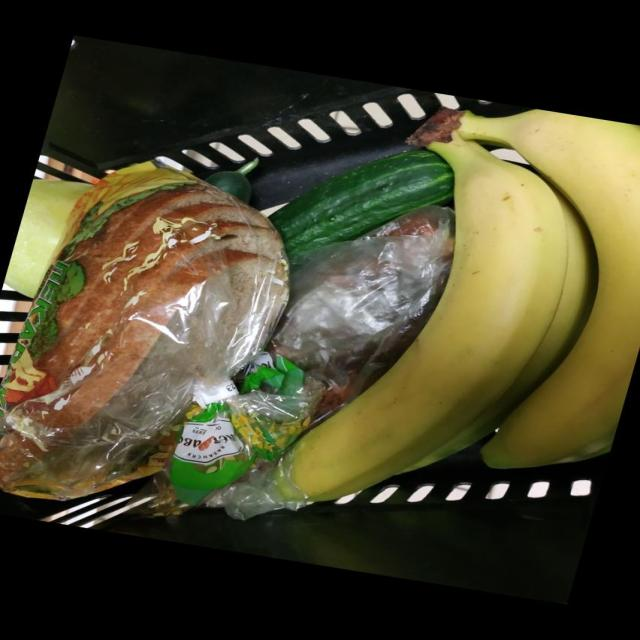apple: (19, 139, 82, 373)
banana: (243, 202, 640, 632), (216, 65, 640, 186), (289, 50, 640, 169)
cucumber: (154, 135, 458, 389), (127, 92, 364, 263)
